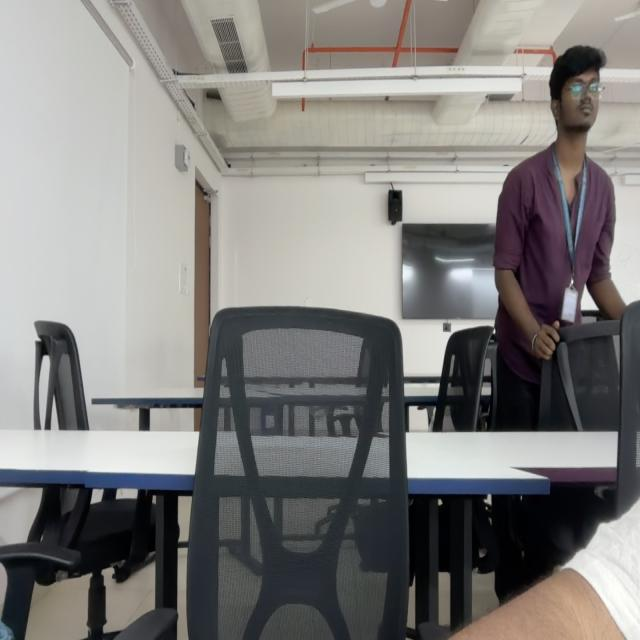ravindra: (546, 47, 606, 139)
